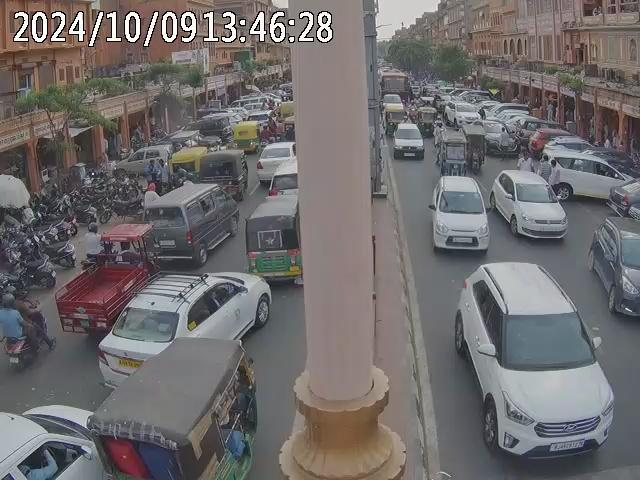auto: (87, 332, 262, 480), (243, 188, 300, 286), (199, 148, 248, 200), (462, 124, 487, 175), (232, 121, 260, 153), (415, 105, 438, 135)
car: (448, 259, 616, 467), (93, 269, 273, 401), (488, 169, 569, 244), (586, 217, 639, 327), (427, 173, 490, 253), (256, 140, 296, 183), (390, 121, 425, 160), (445, 101, 482, 125)
helmet: (0, 293, 16, 307)
license_plate: (547, 439, 587, 453)
lorry: (55, 219, 158, 339)
scooty-rider: (0, 291, 48, 369)
